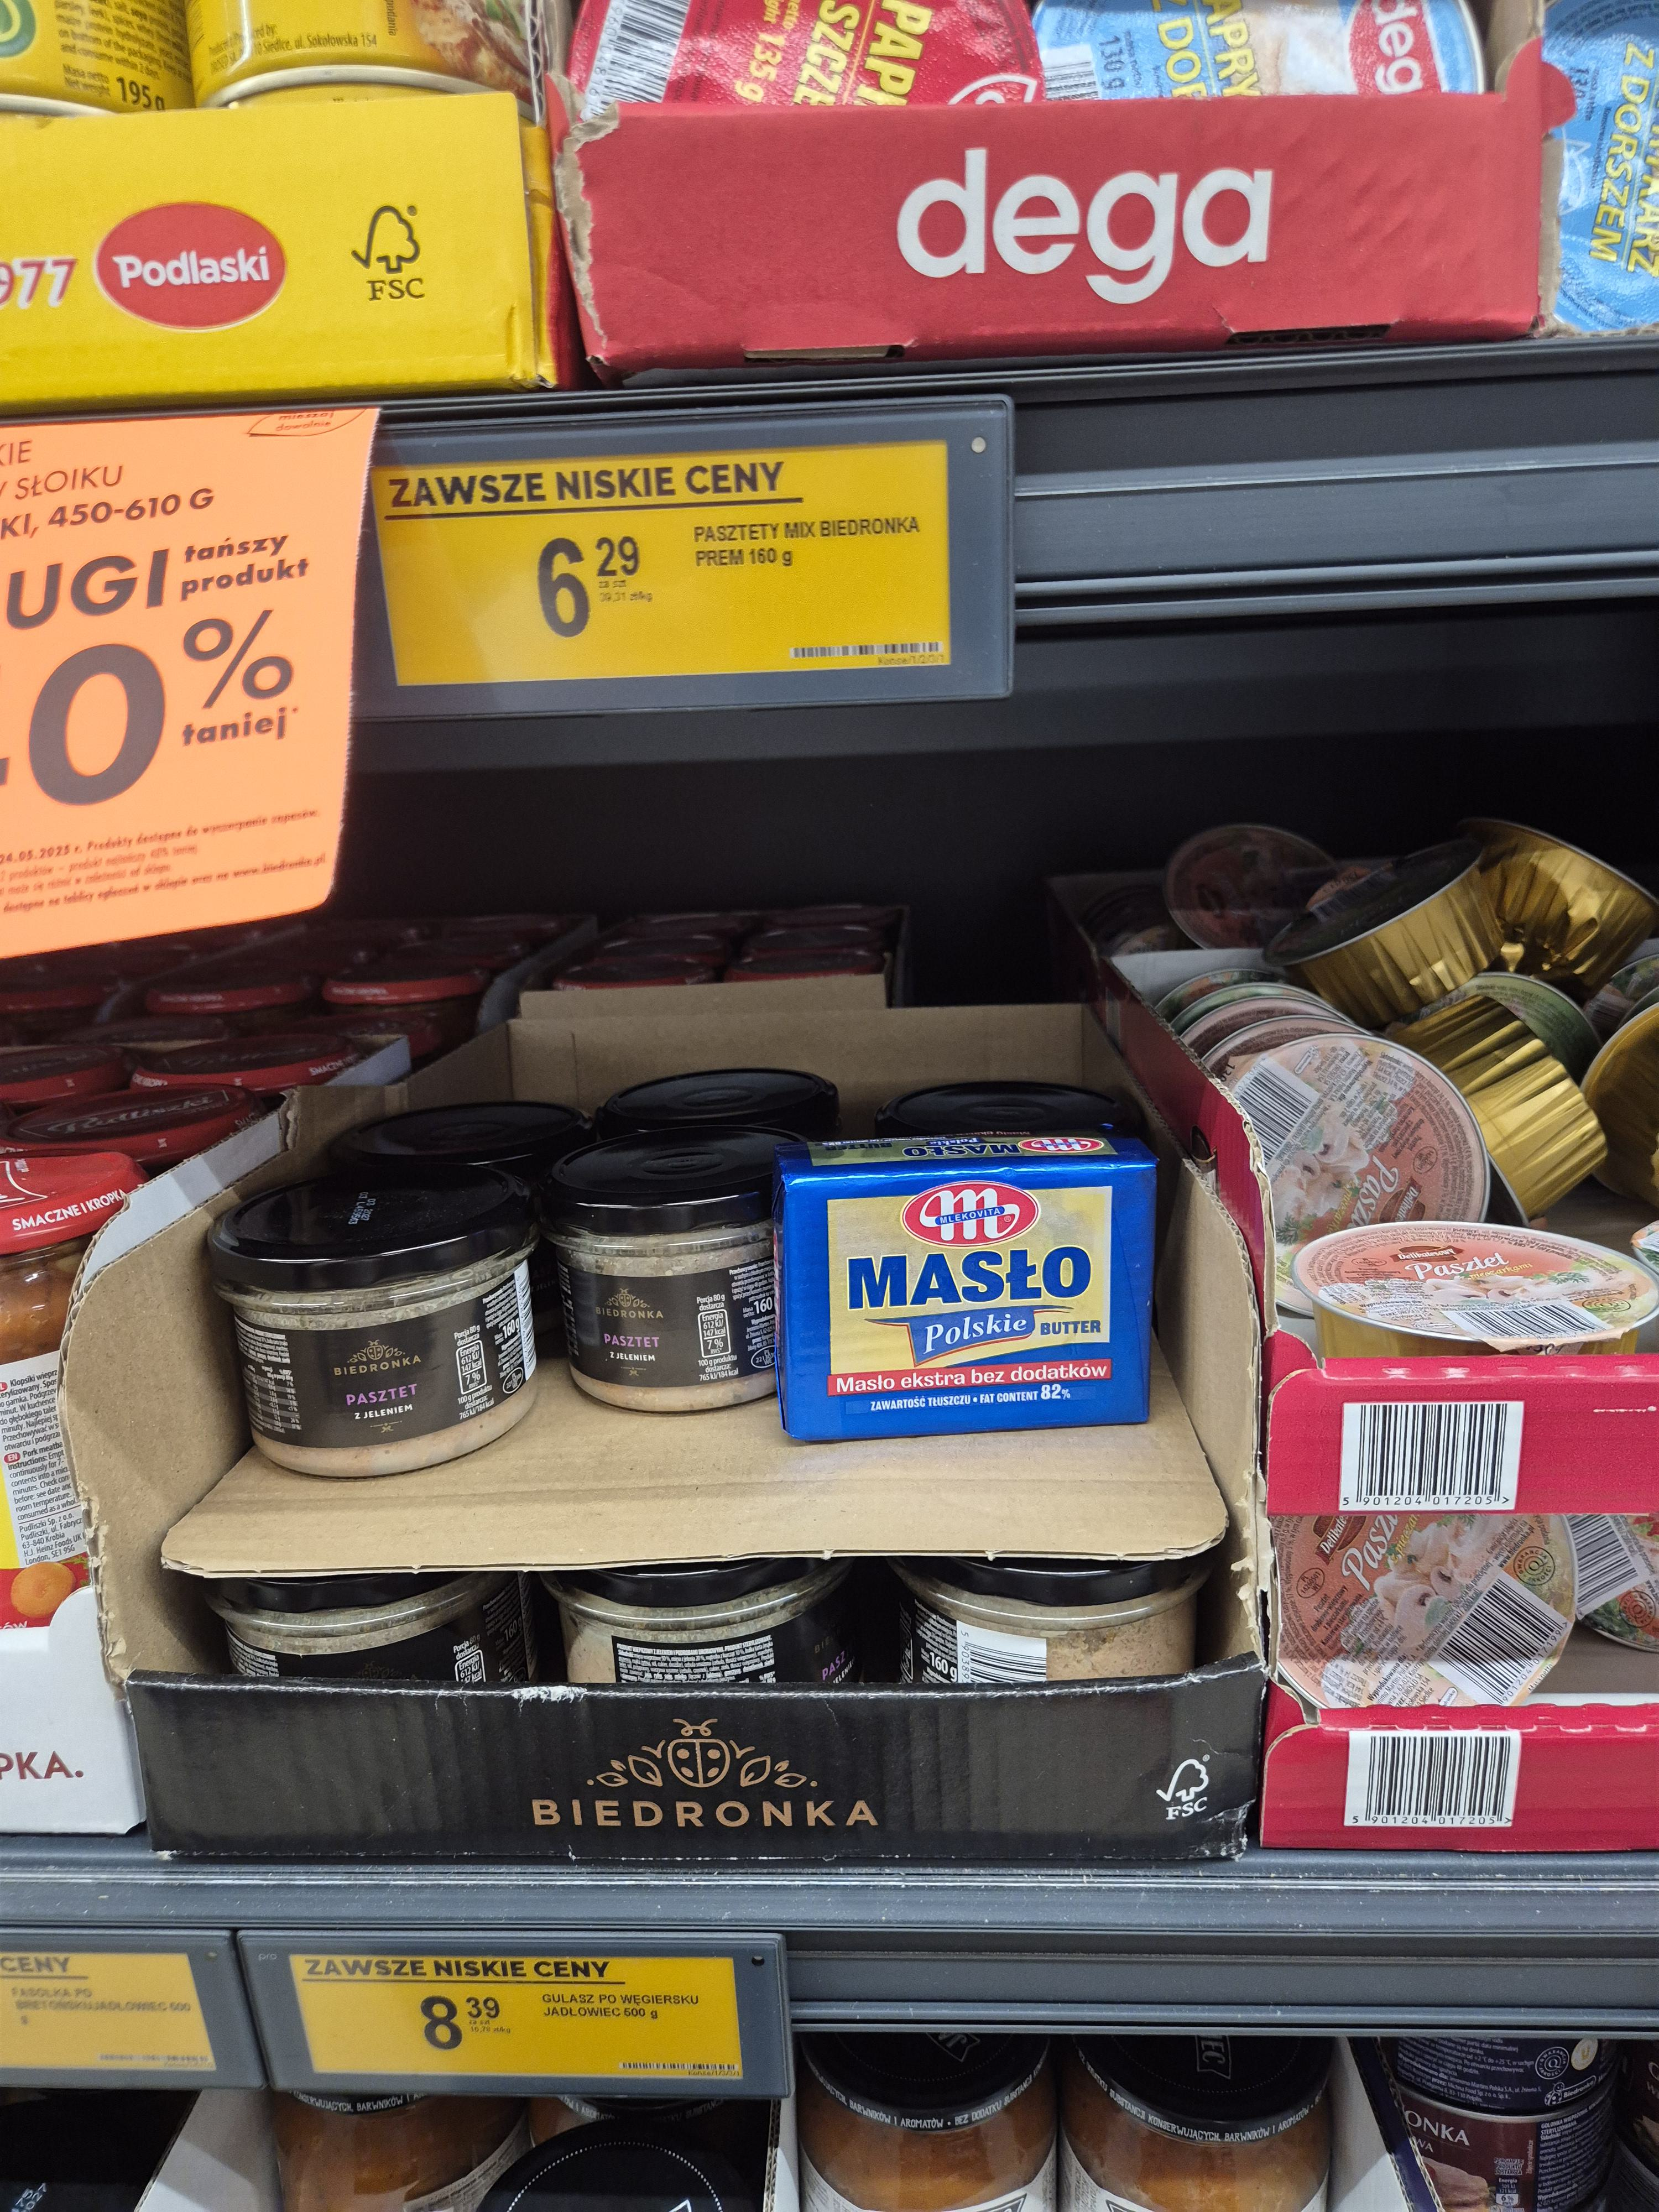Butter: (779, 1115, 1180, 1474)
